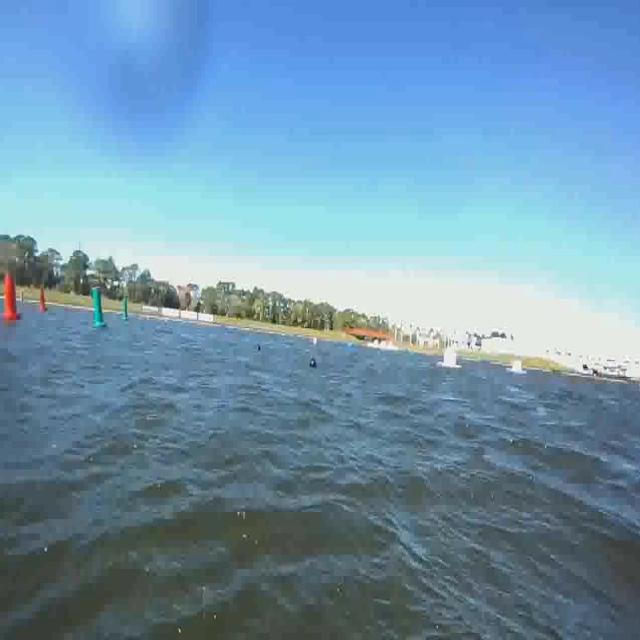green-column-buoy: (91, 287, 107, 329), (120, 296, 130, 322)
red-column-buoy: (1, 270, 20, 320), (39, 285, 48, 313)
